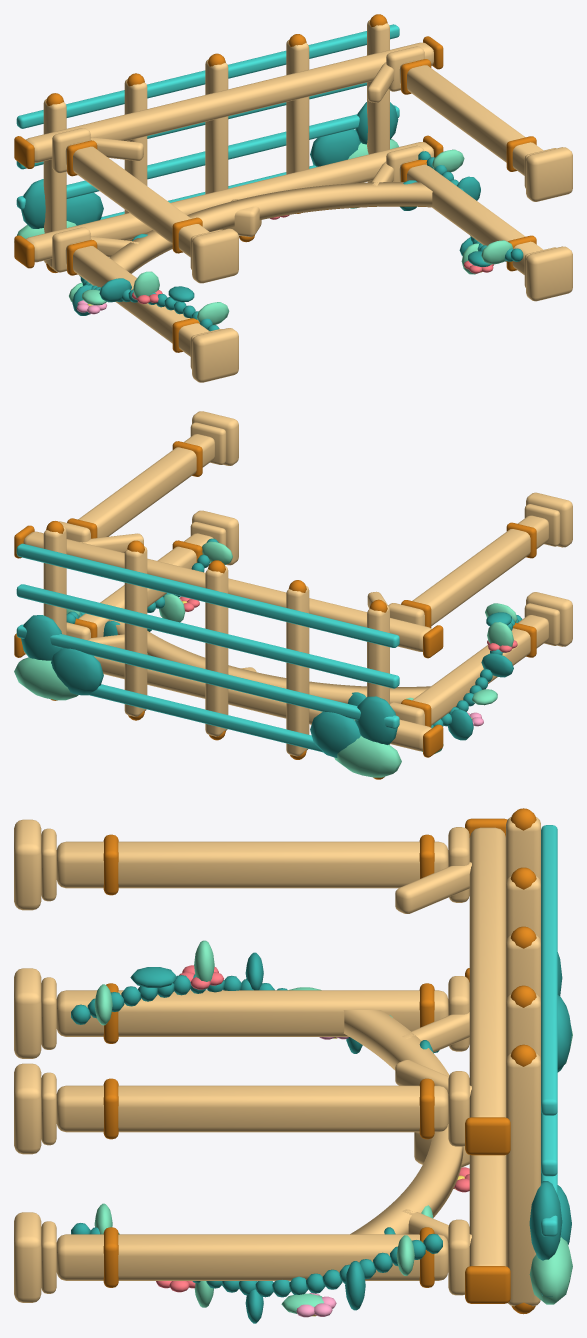
The model's file is PatioPergolaArch_Premium.fbx.
3 views of the same model, one above another, from view 1: azimuth 30°, elevation 25°; view 2: azimuth 150°, elevation 25°; view 3: azimuth 270°, elevation 25° (orthographic). The views are drawn at different scales.
Parts seen in each view (by area): view 1: PatioPergolaArch; view 2: PatioPergolaArch; view 3: PatioPergolaArch.
Boxes of the visible parts, box(x1,y1,x2,y2) form: PatioPergolaArch: box(14, 14, 572, 382); PatioPergolaArch: box(14, 411, 572, 779); PatioPergolaArch: box(14, 808, 572, 1323).
Size of the model in its own units: 2.37 by 0.9765 by 1.84.
